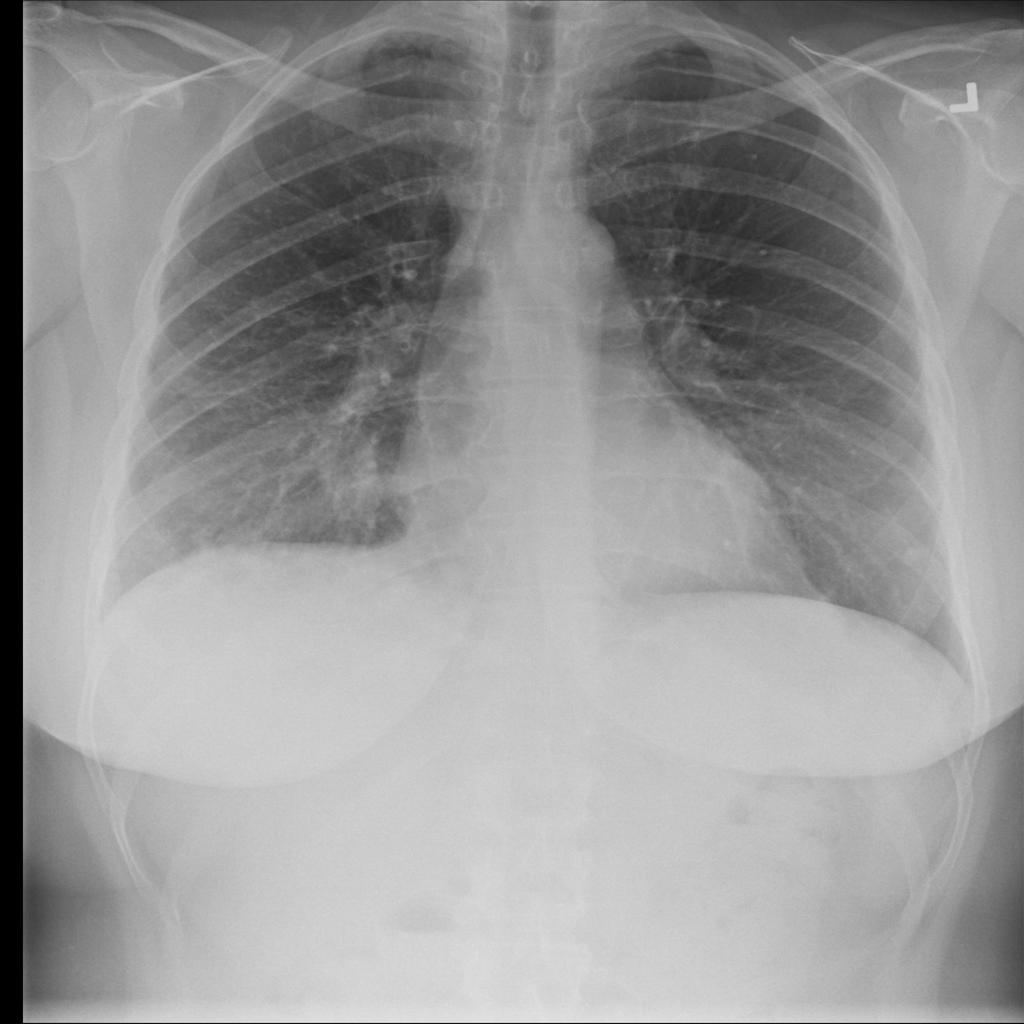nodule: (889, 529, 940, 578)
